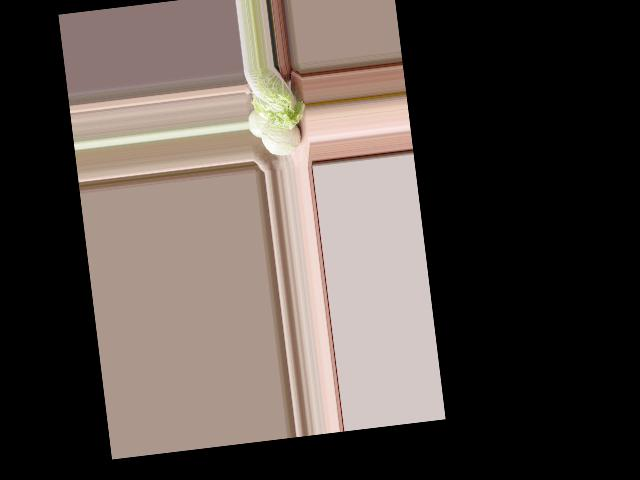lettuce: (245, 64, 308, 133)
